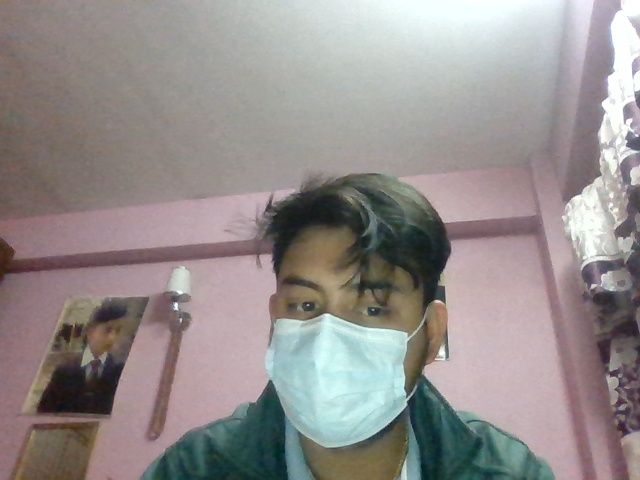mask: (269, 320, 444, 452)
